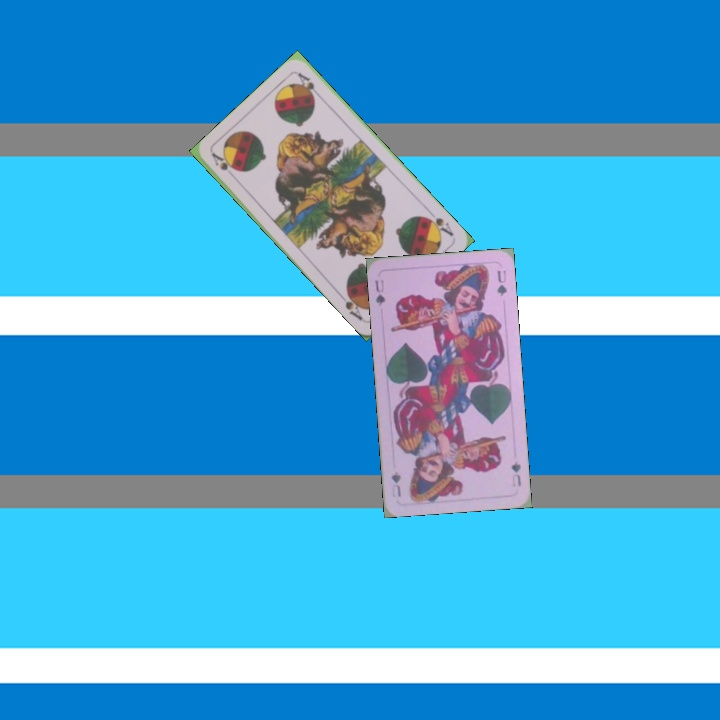GU: (371, 276, 388, 308), (507, 457, 523, 489)
SA: (420, 206, 456, 239), (208, 149, 237, 173)
